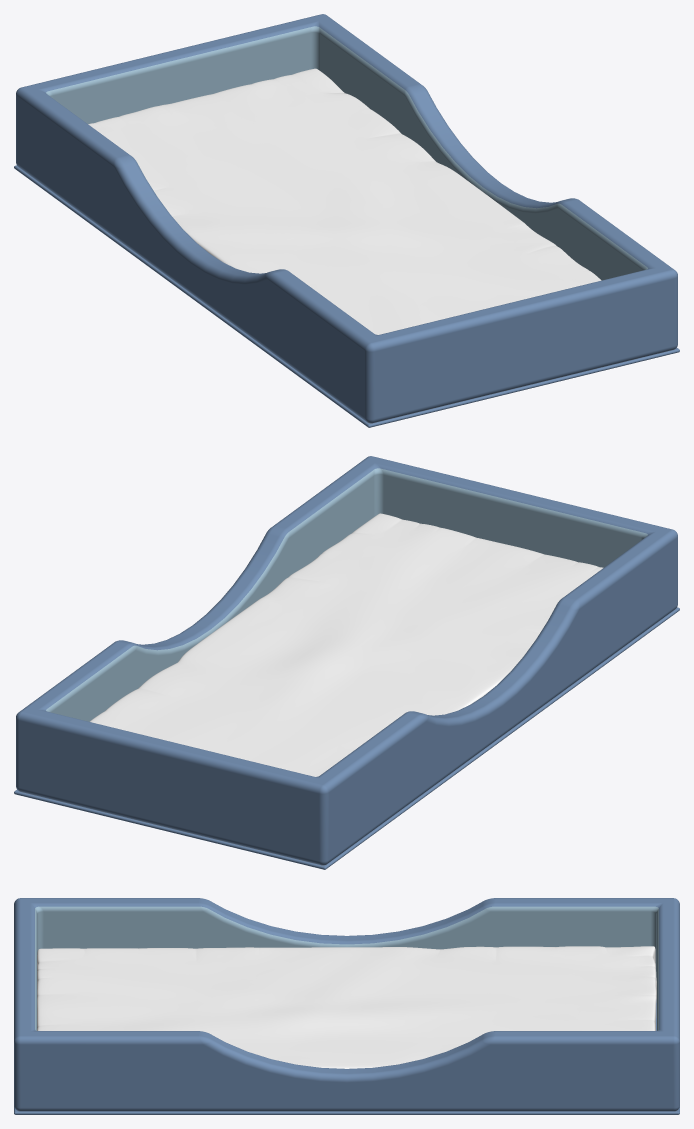
The picture shows the model from 3 angles, top to bottom: view 1: azimuth 30°, elevation 25°; view 2: azimuth 150°, elevation 25°; view 3: azimuth 270°, elevation 25°; orthographic projection. The views are drawn at different scales.
Visible parts, largest first — view 1: root; view 2: root; view 3: root.
Part boxes in pixels (x1=…): root: x1=14, y1=14, x2=679, y2=427; root: x1=14, y1=456, x2=679, y2=869; root: x1=14, y1=898, x2=679, y2=1114.
Size of the model in its own units: 1.02 by 0.2555 by 2.01.
